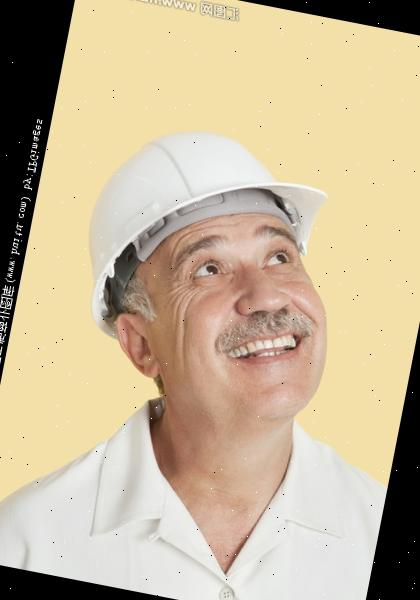helmet: (74, 111, 340, 377)
